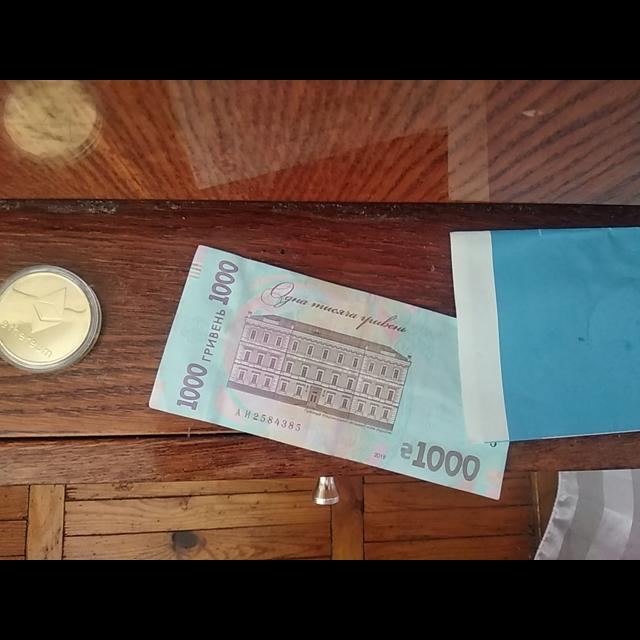1000uah: (146, 249, 509, 503)
